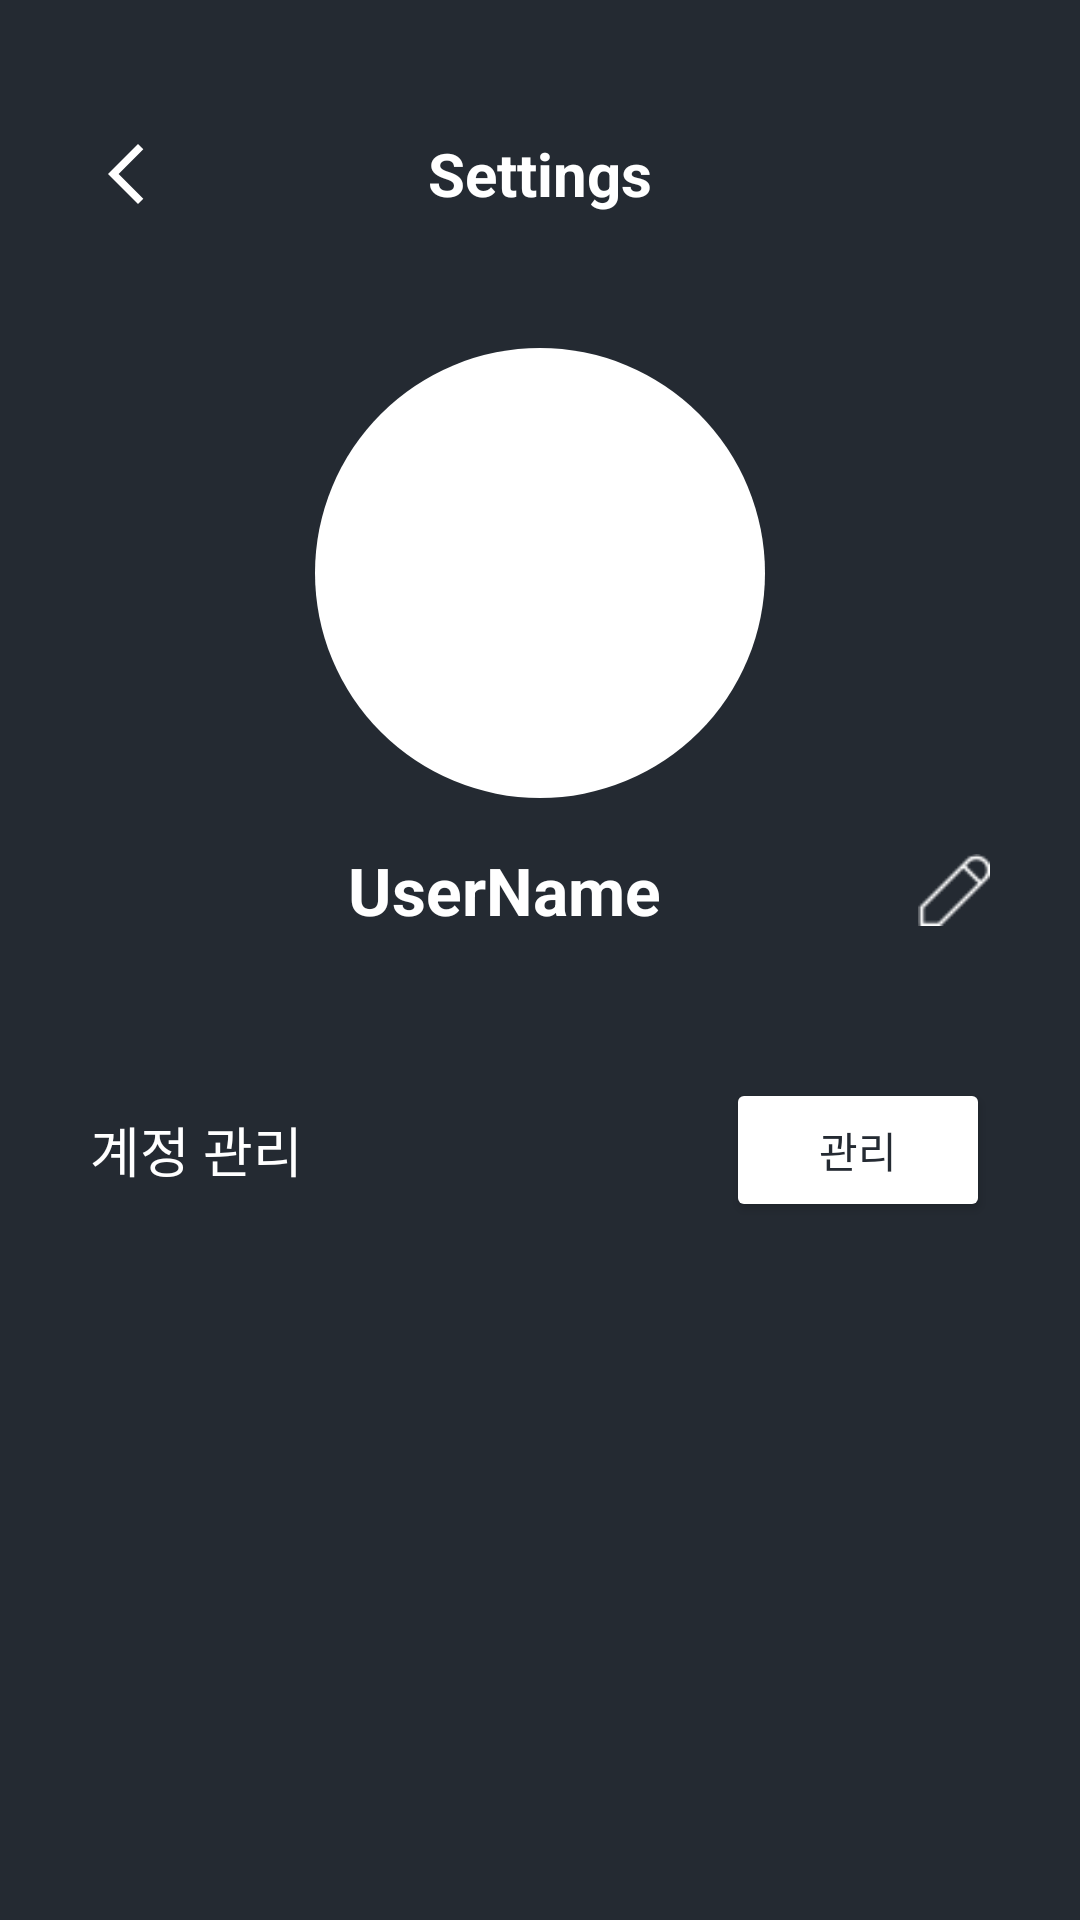

Point at icon controls on the screen. Image size 1080 × 1920, points as (x,y).
arrow back: (125,174)
